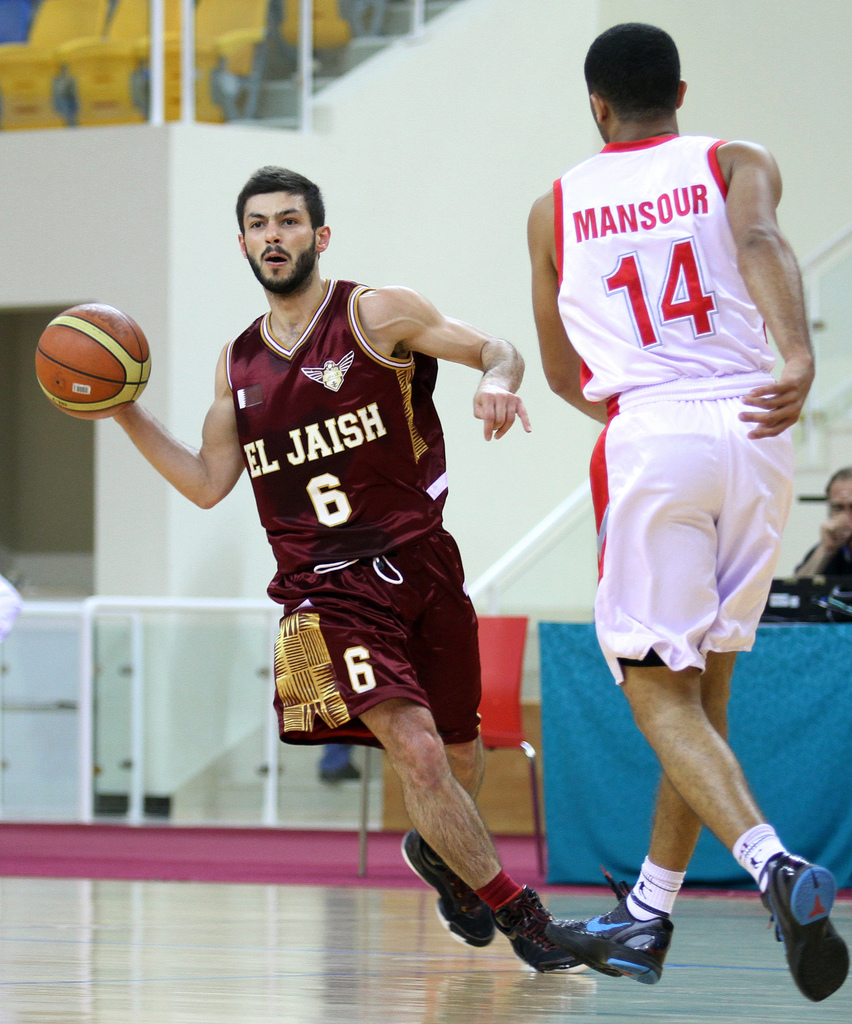Ball: (36, 302, 150, 419)
